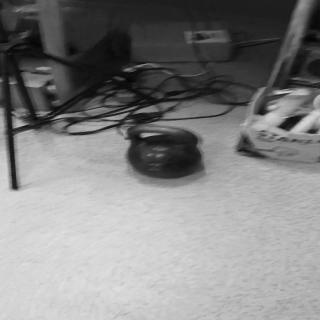kettlebell: (126, 124, 206, 182)
